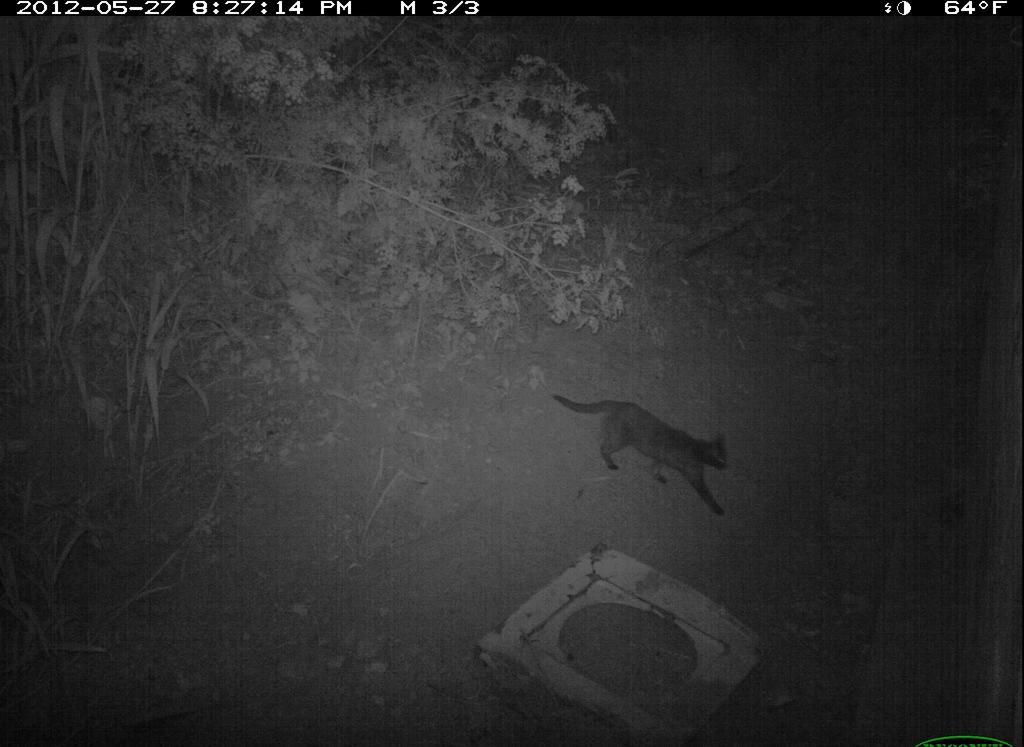cat: (547, 378, 774, 528)
